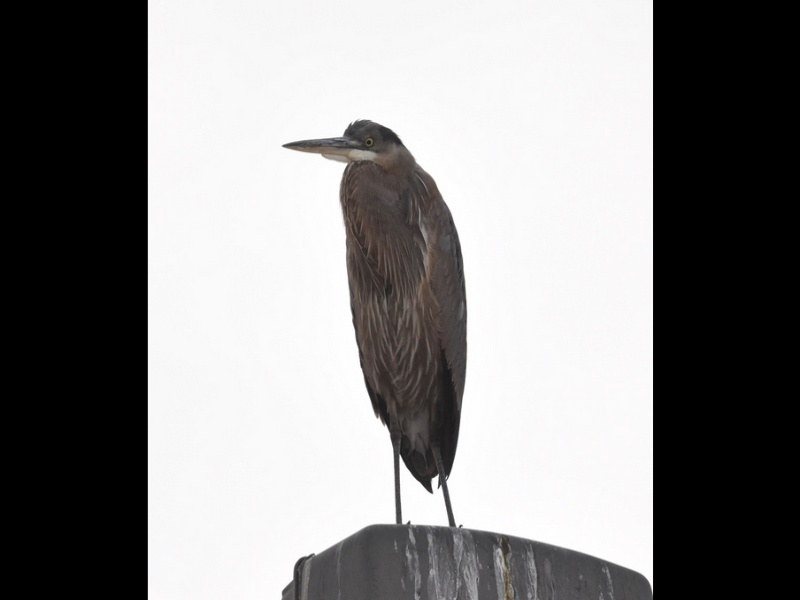heron: (281, 116, 472, 529)
